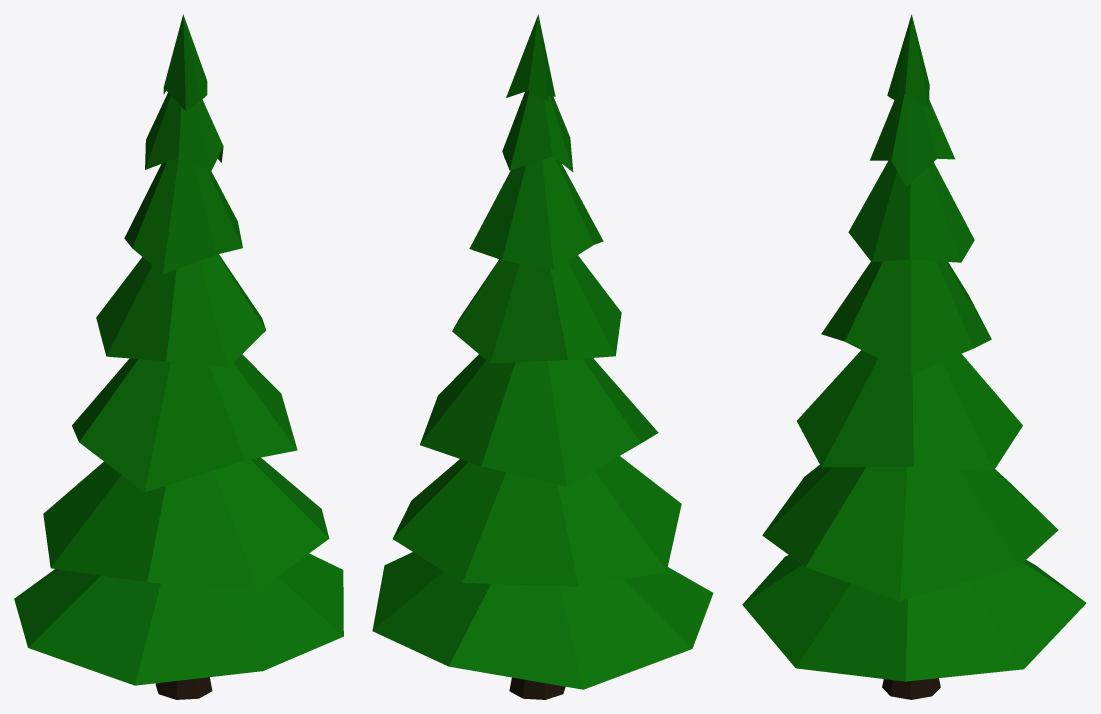
The model's file is ChristmasTree2.fbx.
3 views of the same model, side by side, from view 1: azimuth 30°, elevation 25°; view 2: azimuth 150°, elevation 25°; view 3: azimuth 270°, elevation 25° (orthographic).
Visible parts, largest first — view 1: Christmas Tree.007; view 2: Christmas Tree.007; view 3: Christmas Tree.007.
Boxes of the visible parts, <box> form: Christmas Tree.007: <box>14,14,343,699</box>; Christmas Tree.007: <box>372,14,713,699</box>; Christmas Tree.007: <box>742,14,1086,699</box>.
Bounding box in the file's own units: 282 × 583 × 271.
